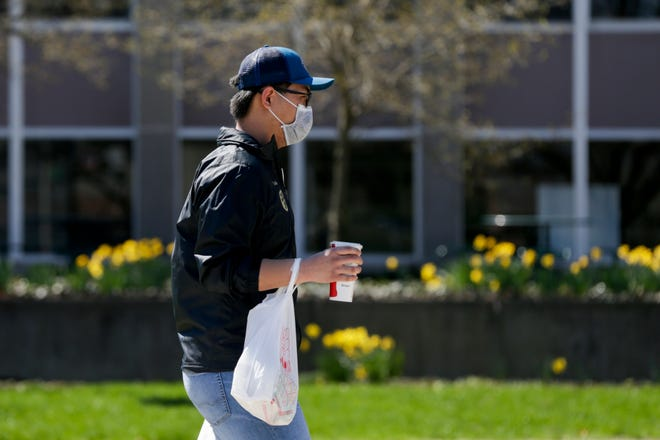with_mask: (243, 60, 320, 151)
